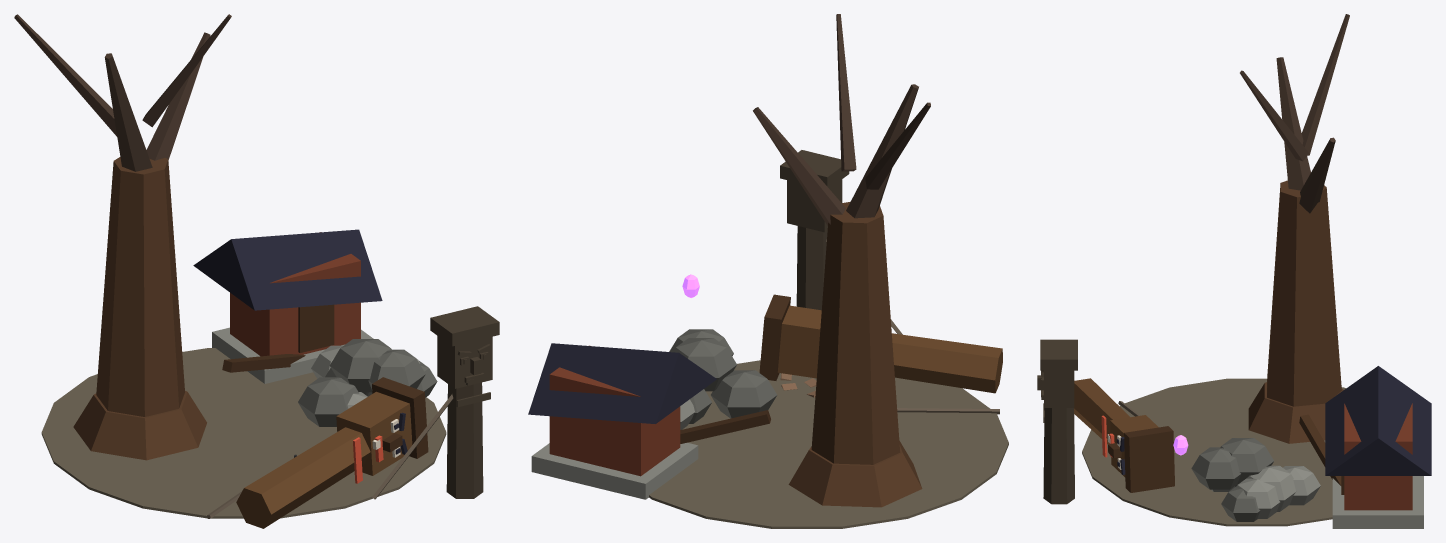
Rendered from prop_seonangdang_pyedang.glb.
3 renders of one model, left to right at view 1: azimuth 30°, elevation 25°; view 2: azimuth 150°, elevation 25°; view 3: azimuth 270°, elevation 25°, orthographic. The views are drawn at different scales.
Parts seen in each view (by area): view 1: prop_seonangdang_pyedang; view 2: prop_seonangdang_pyedang; view 3: prop_seonangdang_pyedang.
Boxes of the visible parts, x1,y1,x2,y2 form: prop_seonangdang_pyedang: (14, 14, 499, 528); prop_seonangdang_pyedang: (528, 14, 1008, 528); prop_seonangdang_pyedang: (1037, 14, 1431, 528).
Size of the model in its own units: 4.76 by 5.41 by 5.19.
